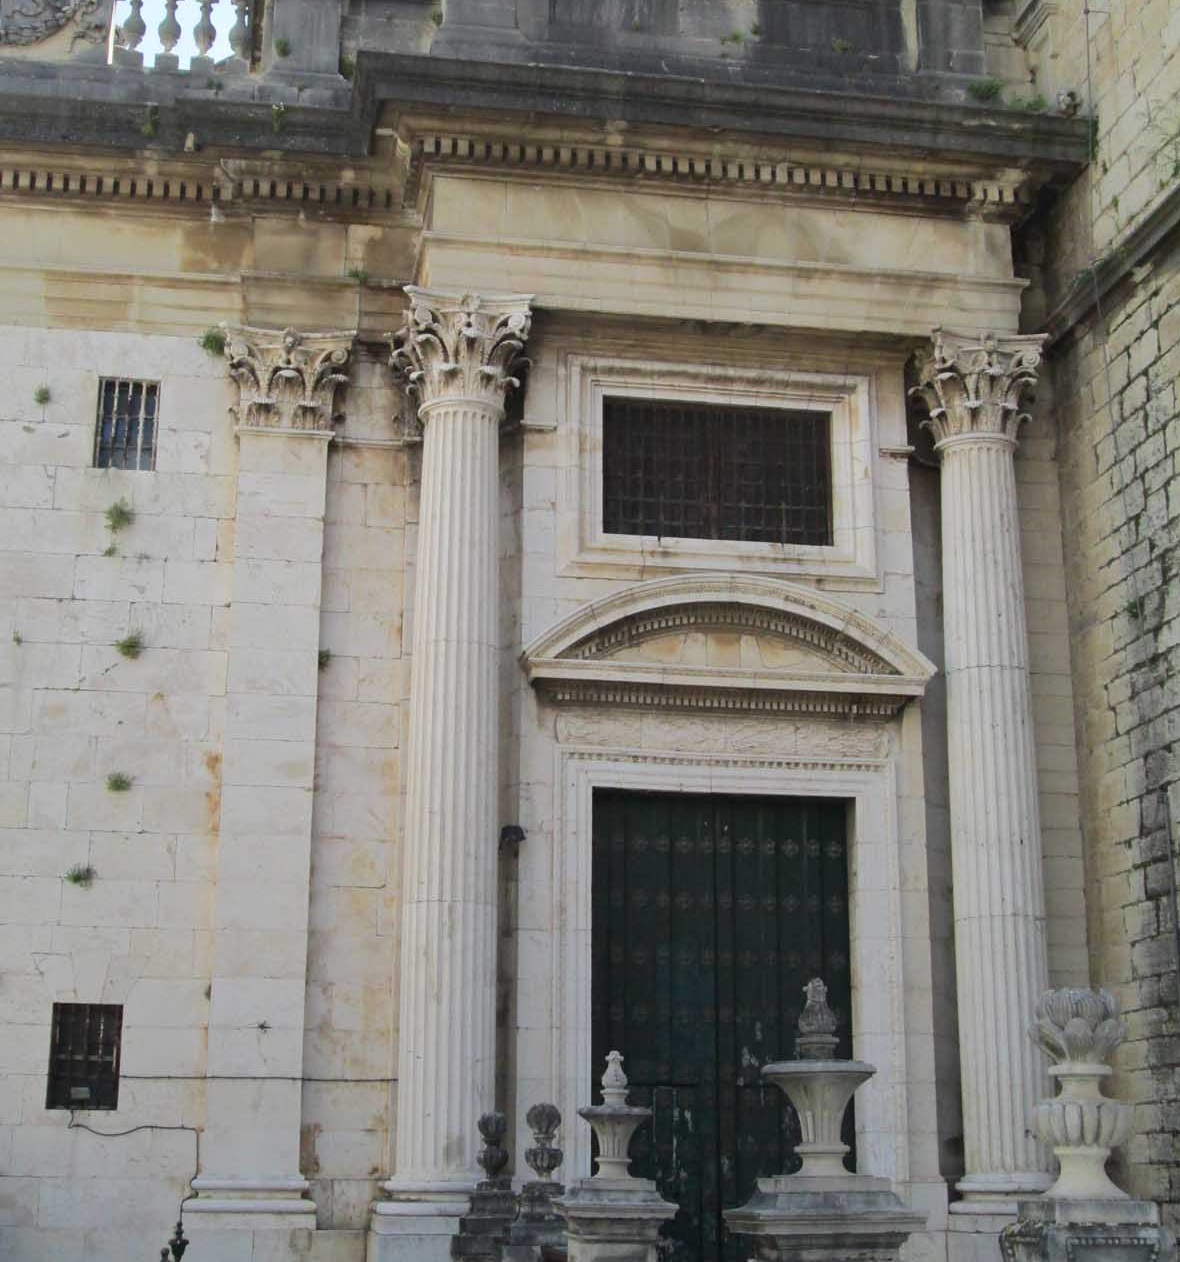fronton-curvo: (513, 567, 954, 729)
vano-adintelado: (547, 737, 911, 1262)
